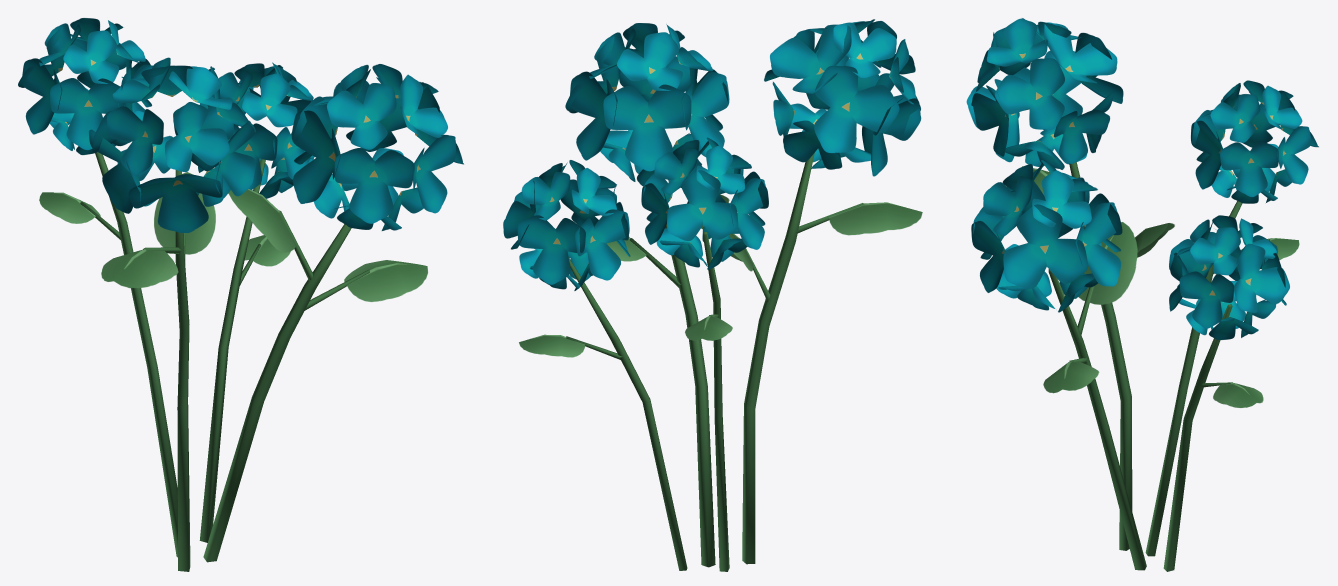
Rendered from Flower_1_Clump.glb.
3 renders of one model, left to right at view 1: azimuth 30°, elevation 25°; view 2: azimuth 150°, elevation 25°; view 3: azimuth 270°, elevation 25°, orthographic. The views are drawn at different scales.
Visible parts, largest first — view 1: Flower_1_Clump; view 2: Flower_1_Clump; view 3: Flower_1_Clump.
Boxes of the visible parts, x1,y1,x2,y2 form: Flower_1_Clump: (18,18,463,571); Flower_1_Clump: (503,19,922,571); Flower_1_Clump: (966,18,1318,571).
Size of the model in its own units: 0.4711 by 0.6713 by 0.4352.
Materials: 1 (1 with a texture image).
